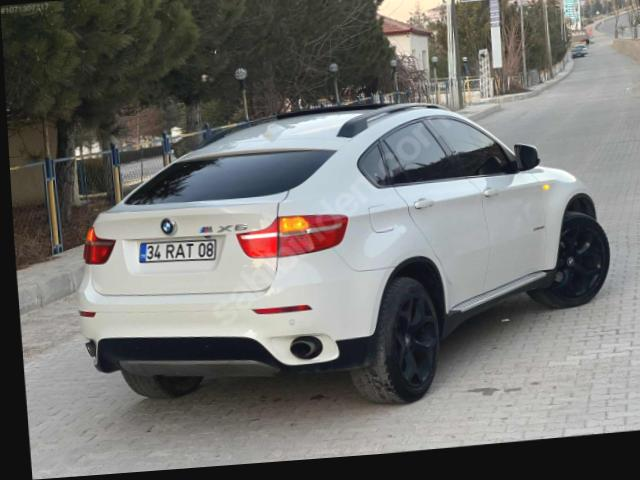plaka: (139, 238, 217, 263)
